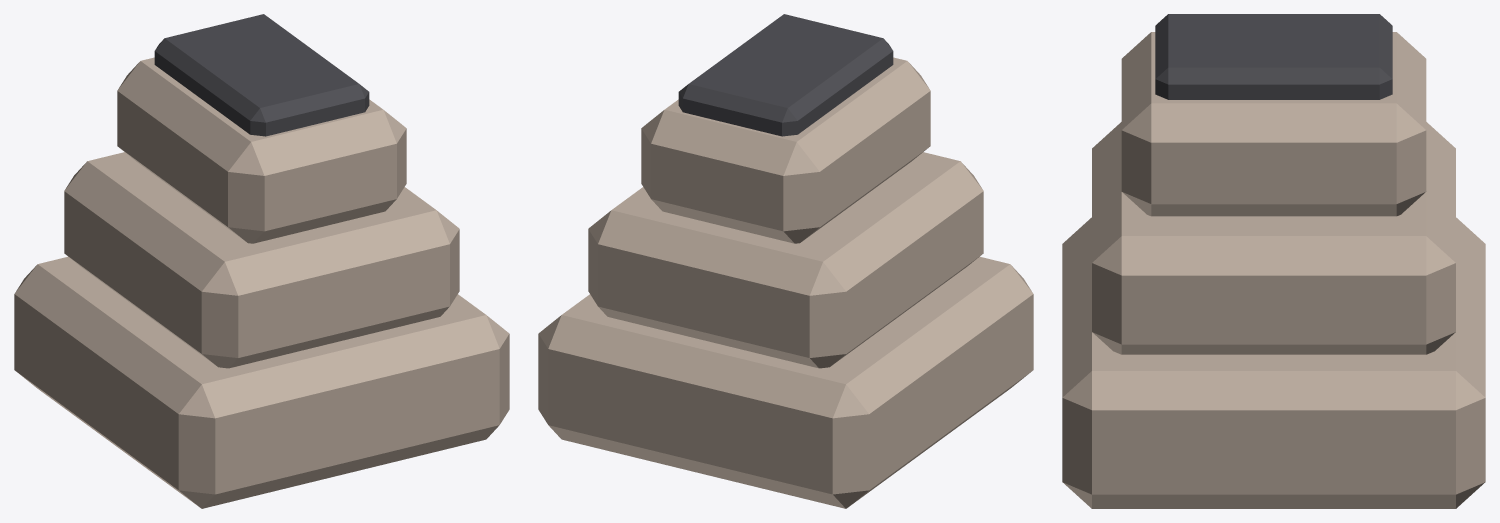
The model's file is pauldron_heavy.glb.
3 renders of one model, left to right at view 1: azimuth 30°, elevation 25°; view 2: azimuth 150°, elevation 25°; view 3: azimuth 270°, elevation 25°, orthographic. The views are drawn at different scales.
Visible parts, largest first — view 1: pauldron_heavy; view 2: pauldron_heavy; view 3: pauldron_heavy.
Boxes of the visible parts, x1,y1,x2,y2 form: pauldron_heavy: (14, 14, 509, 508); pauldron_heavy: (538, 14, 1033, 508); pauldron_heavy: (1062, 14, 1485, 508).
Bounding box in the file's own units: 1 × 1.02 × 1.
